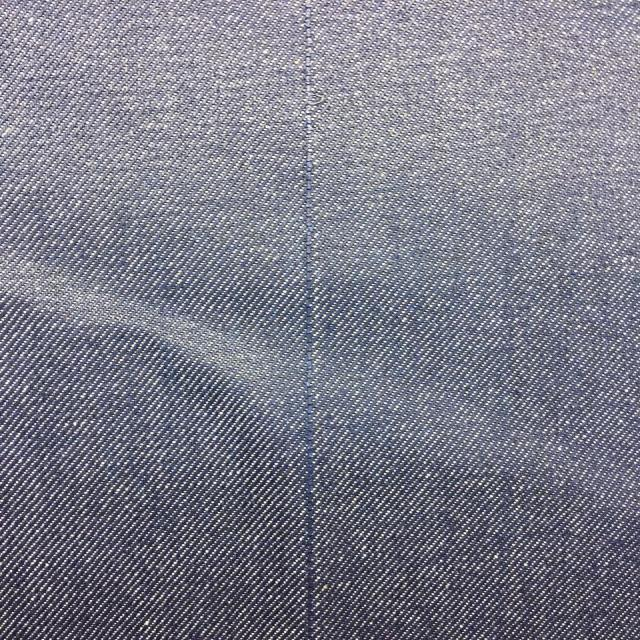Line: (300, 0, 317, 638)
